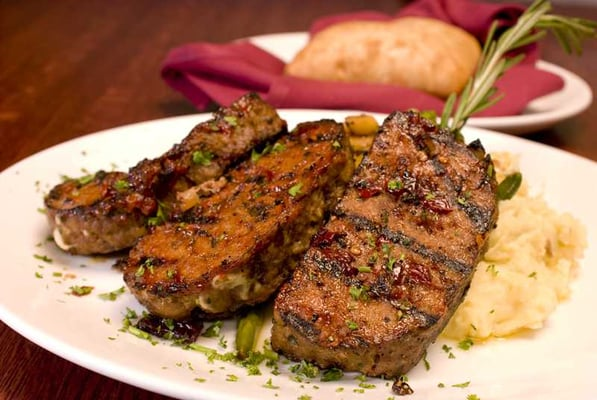curry: (2, 1, 594, 390)
